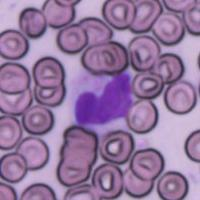M: (66, 66, 136, 130)
